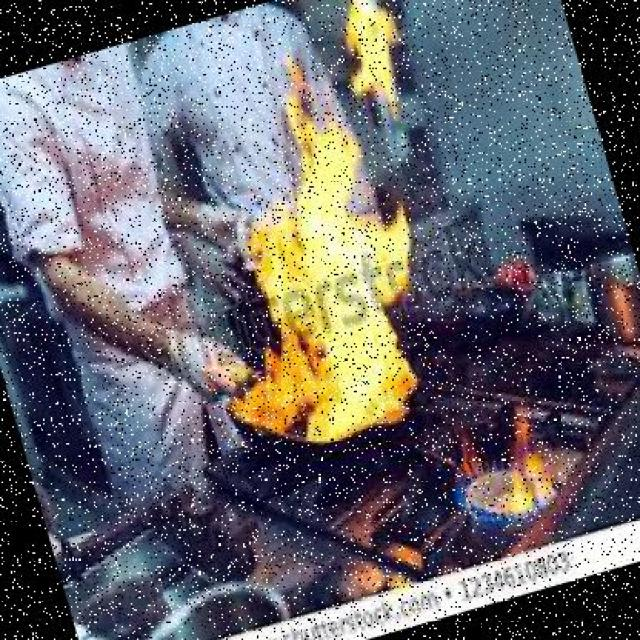fire: (163, 114, 477, 495)
